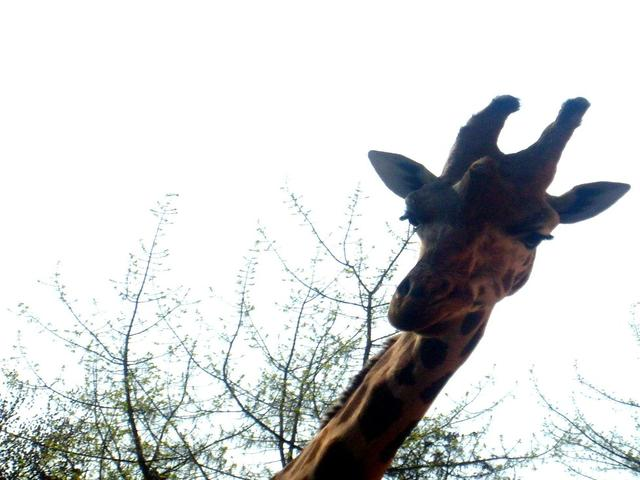giraffe: (246, 62, 633, 467)
